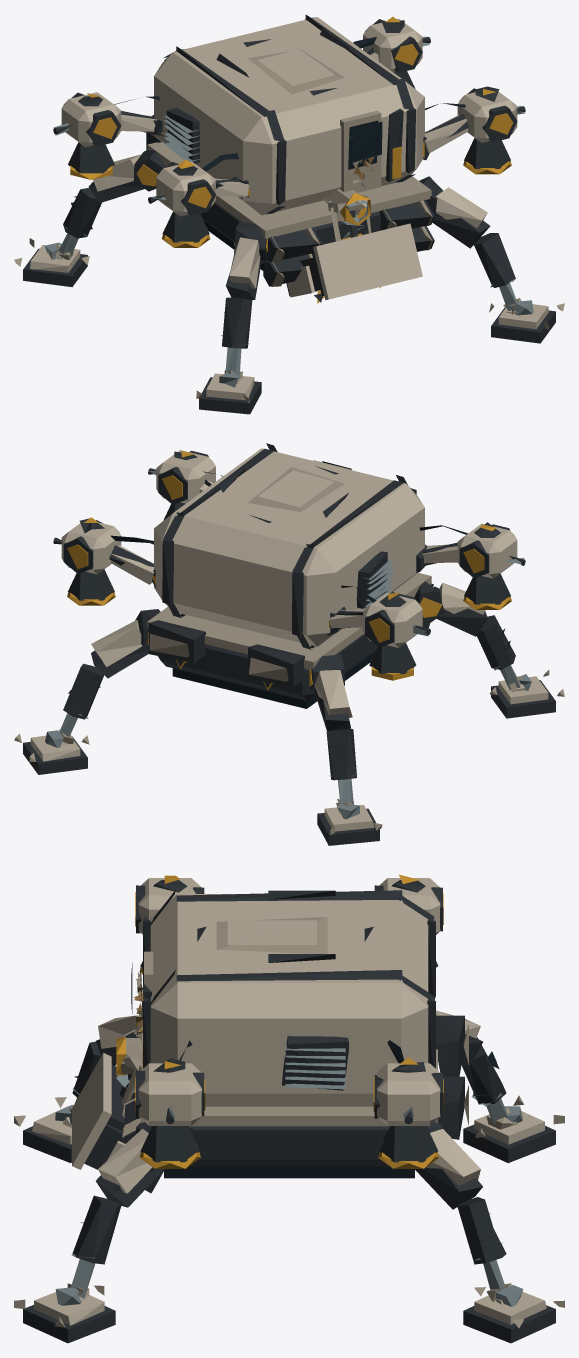
The model's file is sai93_unit_d0_lod2.glb.
3 views of the same model, one above another, from view 1: azimuth 30°, elevation 25°; view 2: azimuth 150°, elevation 25°; view 3: azimuth 270°, elevation 25° (orthographic). The views are drawn at different scales.
Visible parts, largest first — view 1: SAI93_STATIC_SURFACE; view 2: SAI93_STATIC_SURFACE; view 3: SAI93_STATIC_SURFACE.
Boxes of the visible parts, x1=… form: SAI93_STATIC_SURFACE: x1=14, y1=15, x2=564, y2=414; SAI93_STATIC_SURFACE: x1=14, y1=443, x2=564, y2=845; SAI93_STATIC_SURFACE: x1=14, y1=874, x2=564, y2=1343.
Size of the model in its own units: 5.66 by 3.58 by 5.73.
